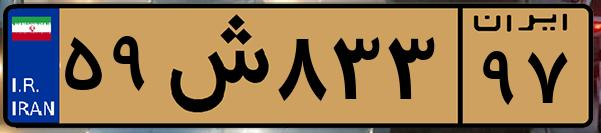3: (385, 28, 445, 110), (330, 28, 385, 110)
5: (57, 26, 110, 100)
7: (525, 38, 570, 115)
8: (270, 28, 330, 110)
9: (475, 38, 525, 113), (110, 28, 158, 98)
ش: (158, 12, 270, 120)
